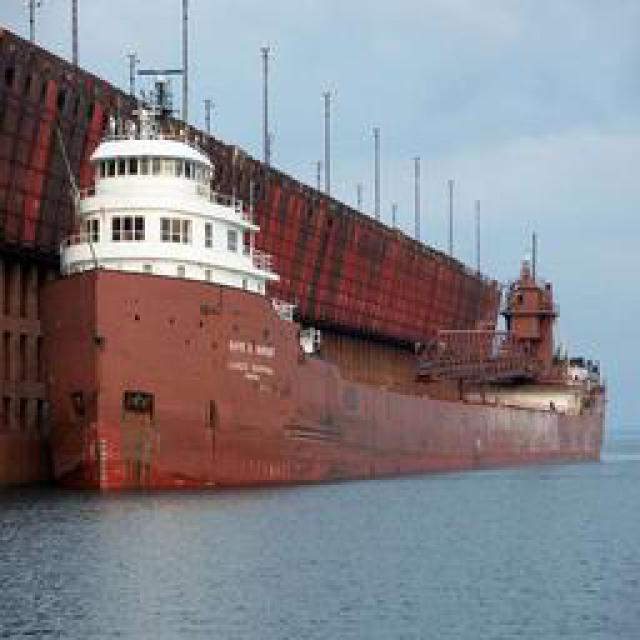Ship: (17, 66, 610, 494)
